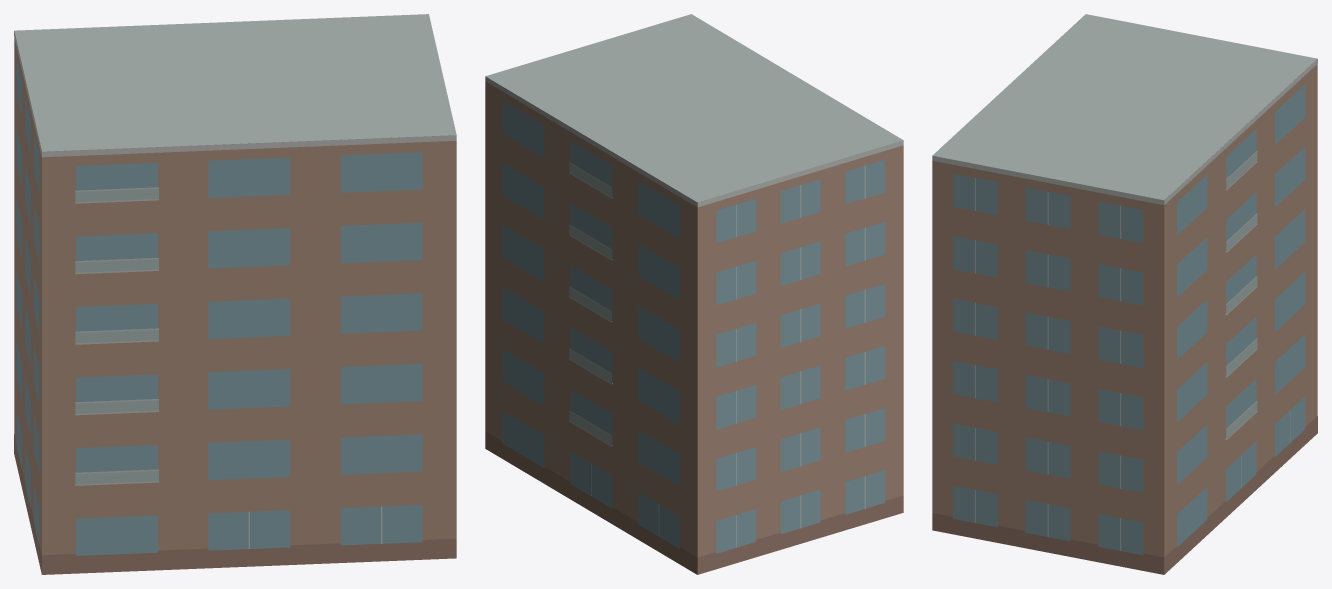
File: survey-upis-32633144.glb
The picture shows the model from 3 angles, left to right: view 1: azimuth 30°, elevation 25°; view 2: azimuth 150°, elevation 25°; view 3: azimuth 270°, elevation 25°; orthographic projection. The views are drawn at different scales.
Parts seen in each view (by area): view 1: survey-upis-32633144.tmp; view 2: survey-upis-32633144.tmp; view 3: survey-upis-32633144.tmp.
Part boxes in pixels (<box>): survey-upis-32633144.tmp: <box>14,14,456,574</box>; survey-upis-32633144.tmp: <box>485,14,903,574</box>; survey-upis-32633144.tmp: <box>932,14,1317,574</box>.
Size of the model in its own units: 19.52 by 18.3 by 17.08.
